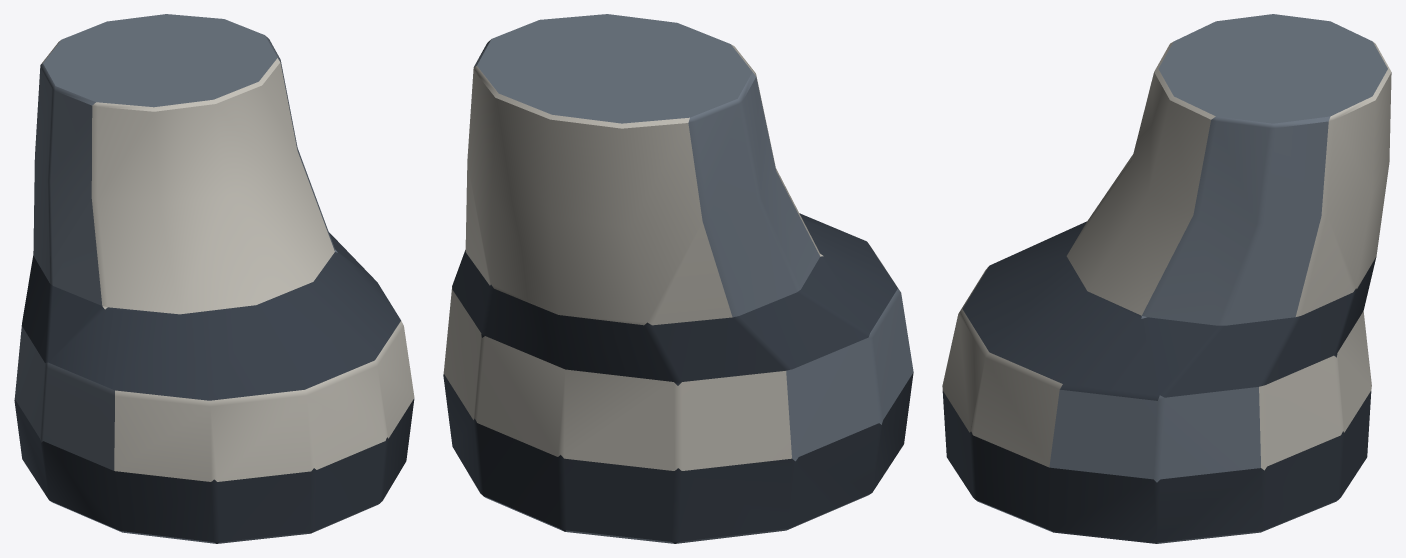
File: boot.glb
3 renders of one model, left to right at view 1: azimuth 30°, elevation 25°; view 2: azimuth 150°, elevation 25°; view 3: azimuth 270°, elevation 25°, orthographic. The views are drawn at different scales.
Parts seen in each view (by area): view 1: boot; view 2: boot; view 3: boot.
Part boxes in pixels (left/top/right/bottom): boot: left=14, top=14, right=414, bottom=543; boot: left=443, top=14, right=913, bottom=543; boot: left=942, top=14, right=1391, bottom=543.
Size of the model in its own units: 0.9978 by 1 by 1.04.
